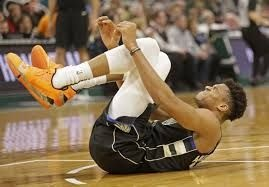falling: (17, 14, 249, 175)
